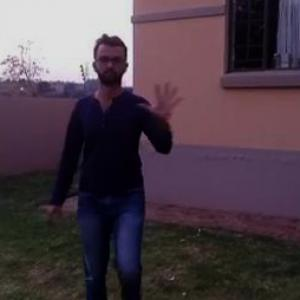follow_hand: (136, 78, 189, 122)
